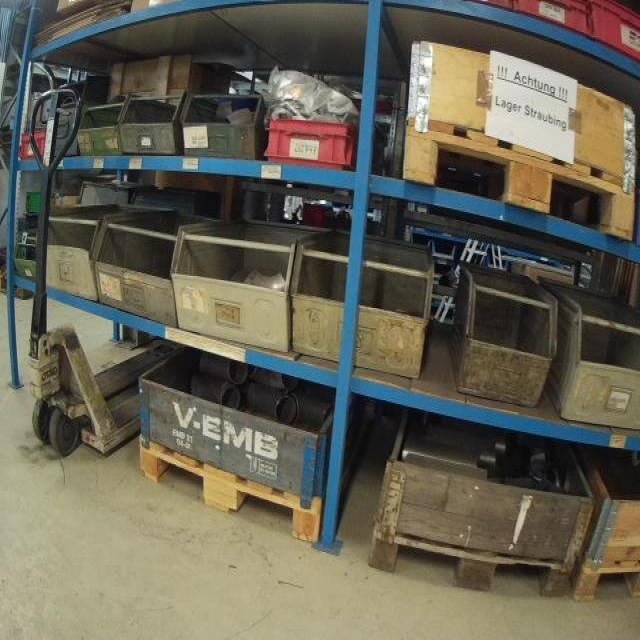pallet: (402, 118, 638, 244), (134, 433, 321, 547), (364, 521, 574, 600), (574, 557, 640, 607)
pallet_truck: (14, 76, 188, 462)
small_load_carrier: (259, 110, 358, 174), (511, 1, 592, 47), (584, 3, 640, 68), (17, 128, 50, 165)
